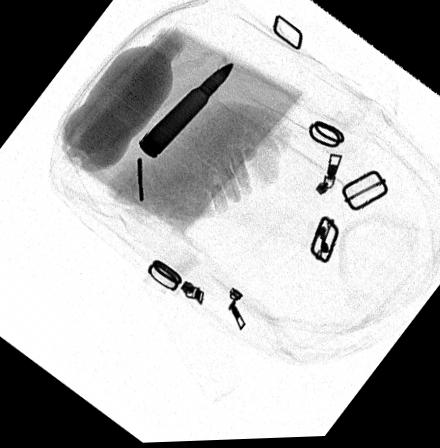Bullet: (136, 63, 234, 161)
